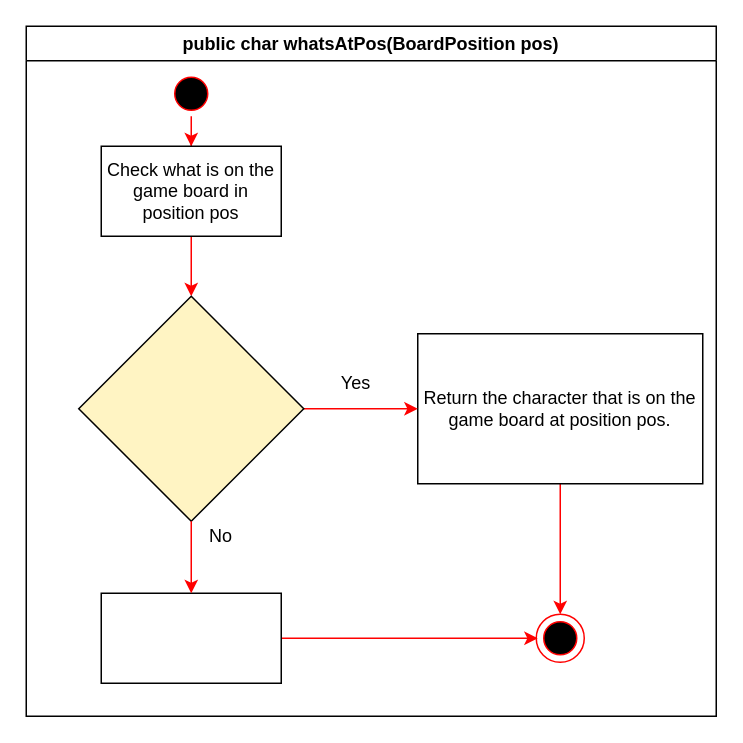
The diagram is 743 pixels wide and 743 high, and some of its shapes have lost their labels. The centre of each missing label's shape, as x and y in pixels:
"Is there an X or an O in the position pos on the game board?" goes at point (190, 408).
"Return a blank space character: ' '" goes at point (190, 637).
